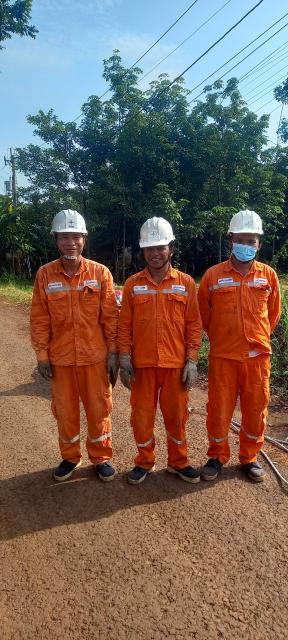gloves: (176, 353, 204, 392), (98, 354, 120, 382), (118, 351, 136, 385), (36, 361, 59, 383)
helmet: (129, 218, 184, 252), (230, 206, 273, 241), (49, 203, 90, 238)
shoes: (49, 446, 89, 494), (192, 457, 229, 486), (164, 458, 200, 485), (121, 461, 160, 485), (237, 457, 266, 486), (93, 458, 115, 488)
